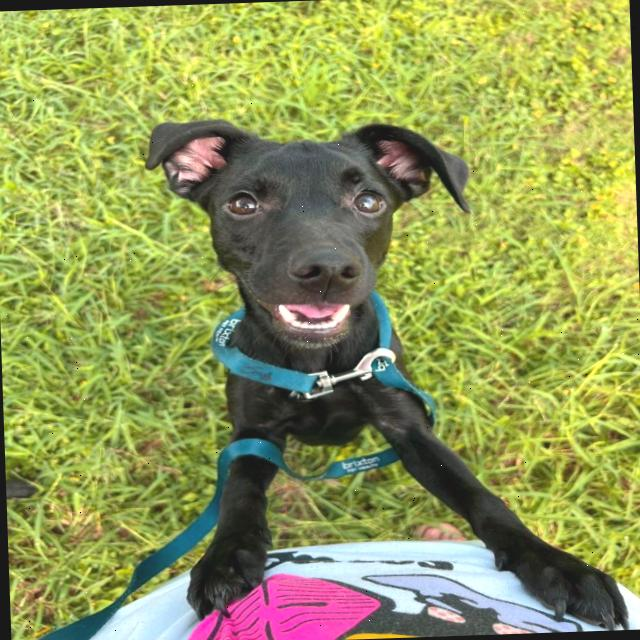labrador_retriever_dog: (117, 88, 499, 376)
